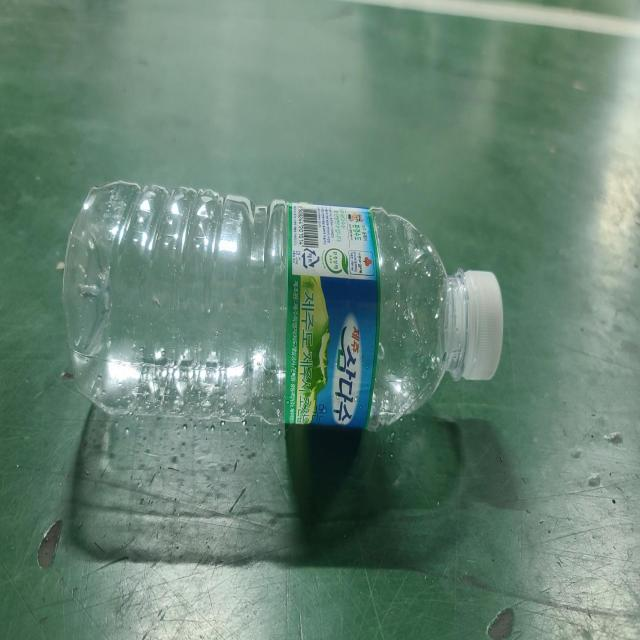plastic: (62, 180, 504, 429)
